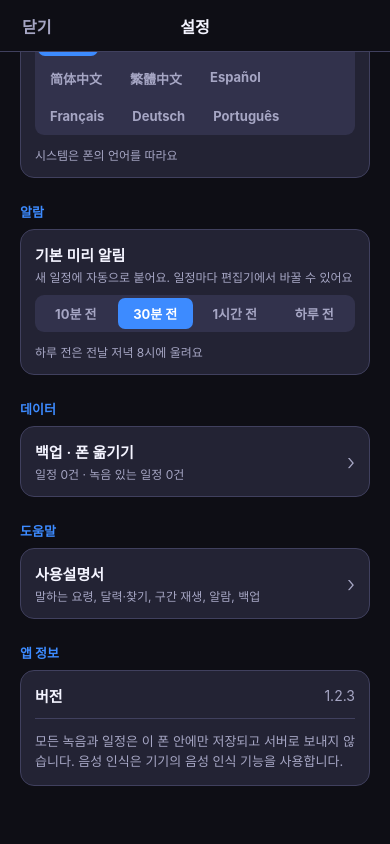
Test case: SettingsSheet › 백업 · 폰 옮기기를 누르면 백업 화면이 열린다
(page scrolled)
Click the element labelled "백업 · 폰 옮기기". click: (84, 452)
box: [35,441,355,482]
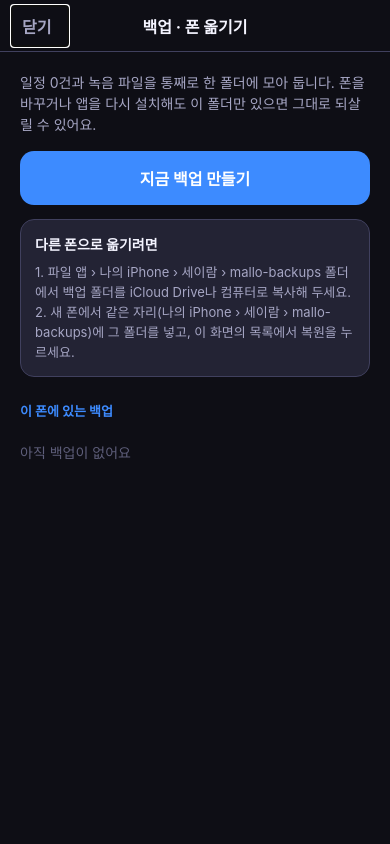
Check: the text "지금 백업 만들기" is shown, box [140,166,250,190]
